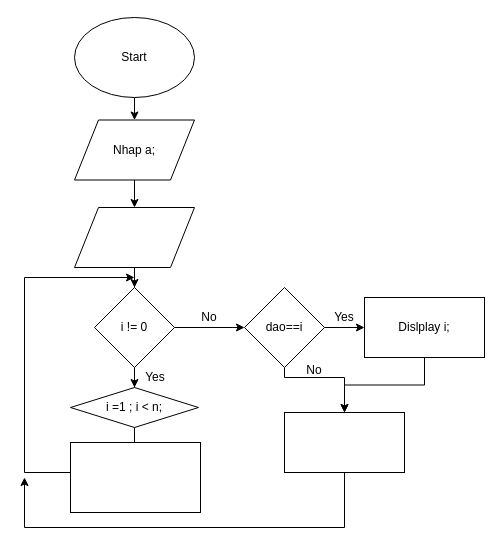
Some shapes in this 502 by 553 pixel diagram are drawn without their labels. Here are the shapes that lost their labels. From the top down, the centre of each, then its label:
At point (134, 237): "intput n,the,dao;".
At point (344, 442): "i++;".
At point (135, 477): "dao=dao*10+the%10 the=the/10".
